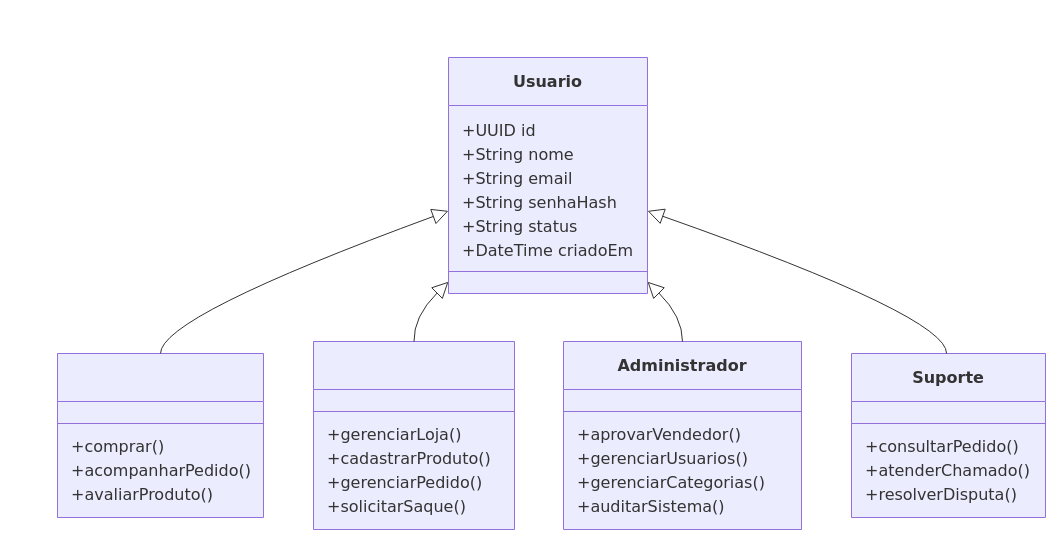
Image size: 1063x547. Some labels were removed from this diagram. The box of each missing label's shape, as (x1, y1, x2, y2) in pixels:
Cliente: (56, 352, 264, 518)
Vendedor: (312, 340, 514, 530)
